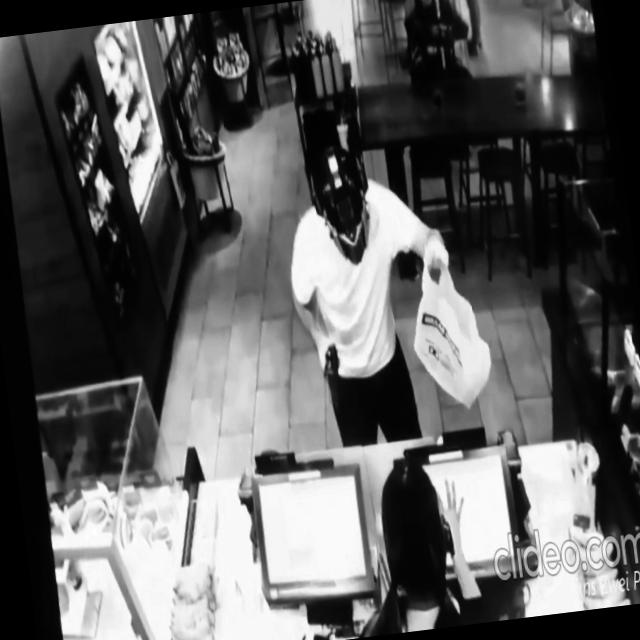gun: (322, 340, 346, 409)
person: (328, 447, 503, 639)
person with a gun: (272, 124, 471, 451)
